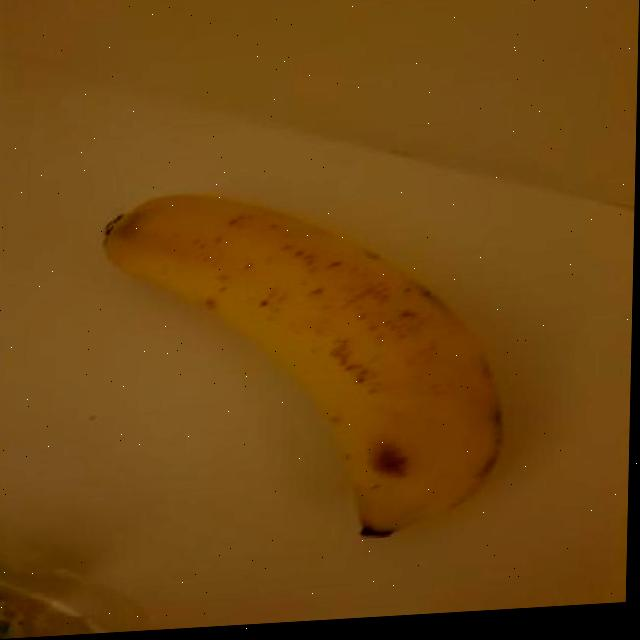banana: (89, 157, 523, 564)
